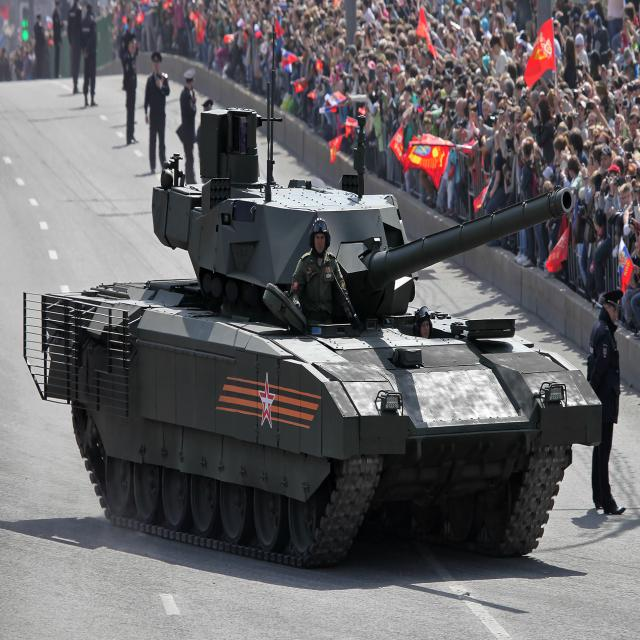north tank: (16, 39, 627, 590)
